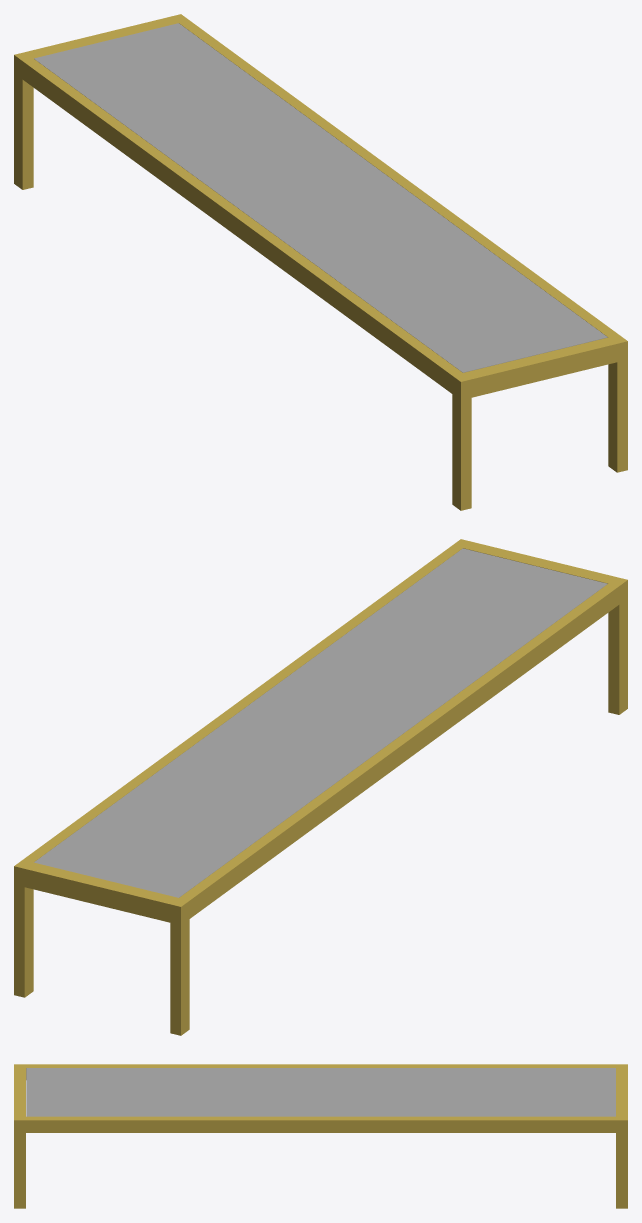
Rendered from fbx_glasstable_2.fbx.
3 views of the same model, one above another, from view 1: azimuth 30°, elevation 25°; view 2: azimuth 150°, elevation 25°; view 3: azimuth 270°, elevation 25° (orthographic). The views are drawn at different scales.
Visible parts, largest first — view 1: fbx_glasstable_2; view 2: fbx_glasstable_2; view 3: fbx_glasstable_2.
Part boxes in pixels (x1,y1,x2,y2): fbx_glasstable_2: (14, 14, 627, 510); fbx_glasstable_2: (14, 539, 627, 1035); fbx_glasstable_2: (14, 1064, 627, 1208).
Bounding box in the file's own units: 1.03 × 0.7585 × 4.77.
Materials: 2 (1 with a texture image).
